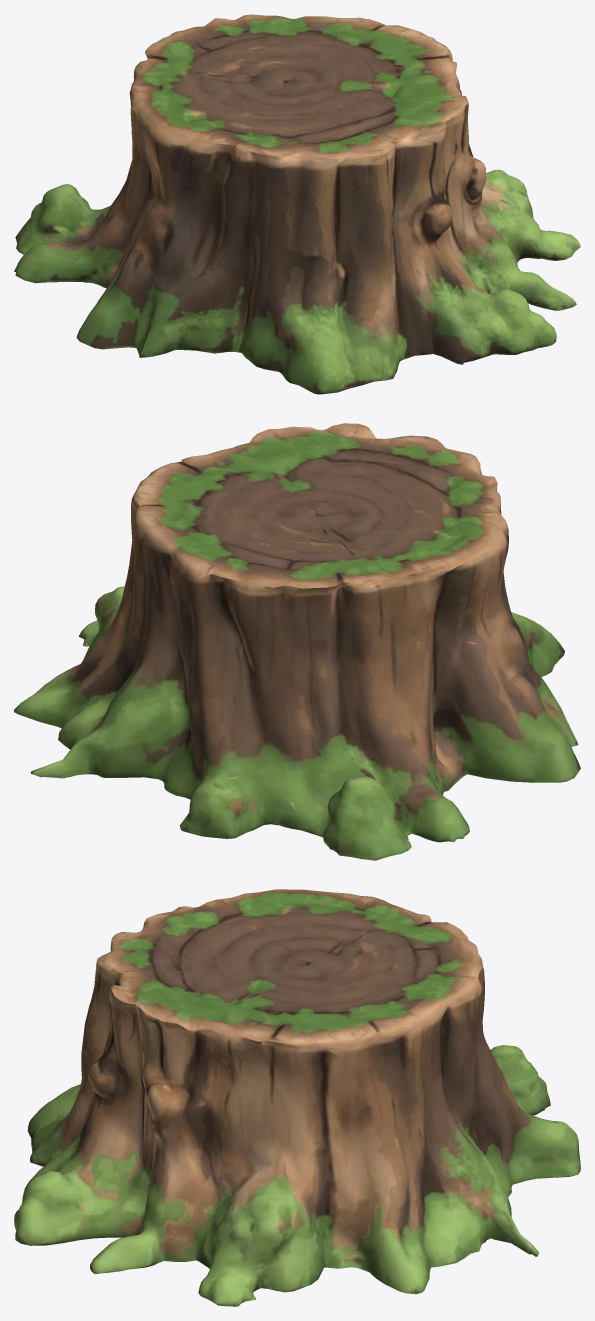
Rendered from Stump.glb.
3 views of the same model, one above another, from view 1: azimuth 30°, elevation 25°; view 2: azimuth 150°, elevation 25°; view 3: azimuth 270°, elevation 25° (orthographic). The views are drawn at different scales.
Parts seen in each view (by area): view 1: Stump; view 2: Stump; view 3: Stump.
Boxes of the visible parts, x1,y1,x2,y2 form: Stump: (14,14,580,394); Stump: (14,423,580,860); Stump: (14,889,580,1306).
Size of the model in its own units: 1.32 by 0.5358 by 1.28.
Materials: 1 (1 with a texture image).
